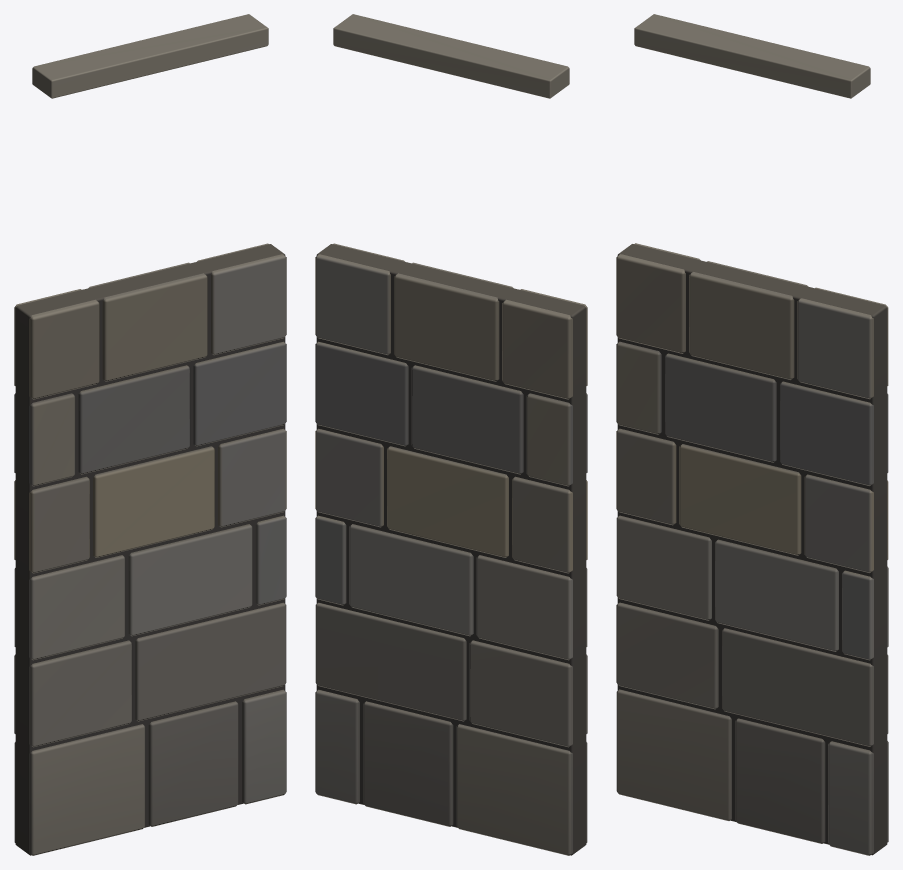
File: ashlar-window-sill.glb
3 views of the same model, side by side, from view 1: azimuth 30°, elevation 25°; view 2: azimuth 150°, elevation 25°; view 3: azimuth 330°, elevation 25° (orthographic).
Parts seen in each view (by area): view 1: body; view 2: body; view 3: body.
Part boxes in pixels (box(x1,y1,x2,y2)): body: box(14, 14, 286, 855); body: box(315, 14, 587, 855); body: box(616, 14, 888, 855).
Size of what is drawn, in the model's own units: 0.9899 by 2.85 by 0.132.
